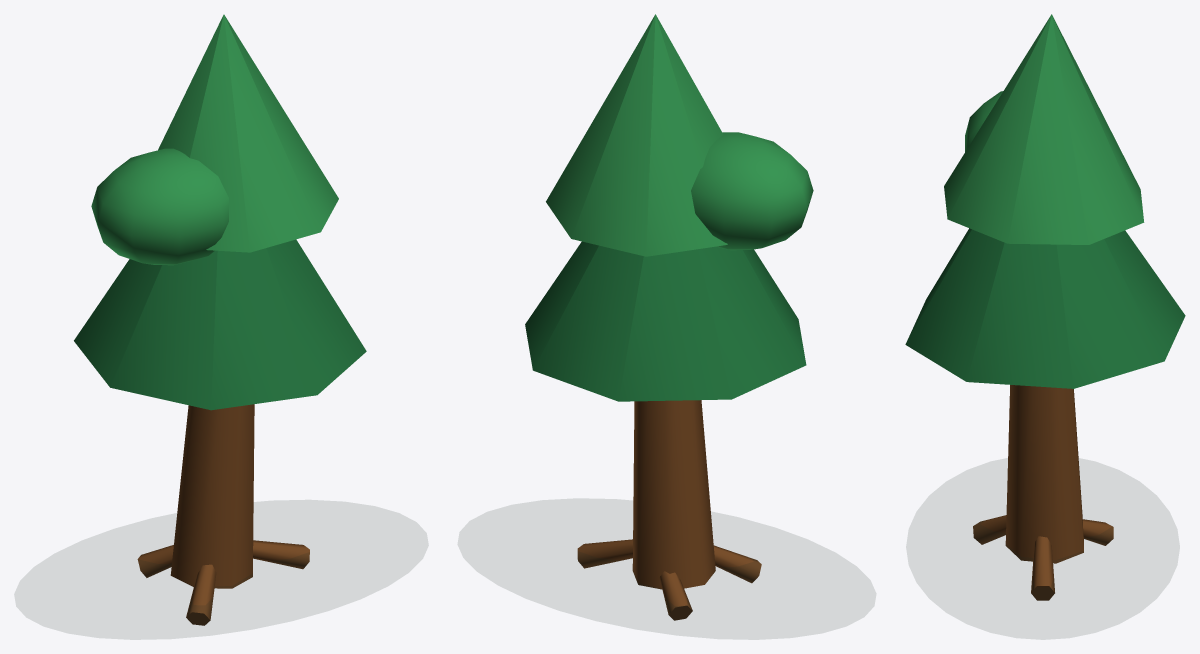
Rendered from natural_tree.glb.
The picture shows the model from 3 angles, left to right: view 1: azimuth 30°, elevation 25°; view 2: azimuth 150°, elevation 25°; view 3: azimuth 270°, elevation 25°; orthographic projection. The views are drawn at different scales.
Parts seen in each view (by area): view 1: lower_canopy, soft_ground_shadow, upper_canopy, knotted_trunk, side_leaf_cluster, trunk_root_1, trunk_root_0, trunk_root_2; view 2: lower_canopy, soft_ground_shadow, upper_canopy, knotted_trunk, side_leaf_cluster, trunk_root_0, trunk_root_1, trunk_root_2; view 3: lower_canopy, upper_canopy, soft_ground_shadow, knotted_trunk, trunk_root_0, trunk_root_1, side_leaf_cluster, trunk_root_2.
Boxes of the visible parts, left/top/right/bottom form: lower_canopy: left=74, top=239, right=366, bottom=410; soft_ground_shadow: left=15, top=500, right=427, bottom=639; upper_canopy: left=158, top=14, right=338, bottom=252; knotted_trunk: left=170, top=404, right=254, bottom=588; side_leaf_cluster: left=91, top=148, right=228, bottom=265; trunk_root_1: left=186, top=564, right=216, bottom=625; trunk_root_0: left=253, top=540, right=309, bottom=569; trunk_root_2: left=137, top=545, right=173, bottom=577; lower_canopy: left=525, top=241, right=806, bottom=401; soft_ground_shadow: left=458, top=499, right=875, bottom=639; upper_canopy: left=546, top=14, right=727, bottom=256; knotted_trunk: left=632, top=400, right=715, bottom=589; side_leaf_cluster: left=691, top=132, right=813, bottom=250; trunk_root_0: left=577, top=539, right=632, bottom=568; trunk_root_1: left=713, top=545, right=761, bottom=583; trunk_root_2: left=659, top=571, right=692, bottom=620; lower_canopy: left=905, top=228, right=1185, bottom=388; upper_canopy: left=944, top=14, right=1144, bottom=244; soft_ground_shadow: left=906, top=459, right=1179, bottom=639; knotted_trunk: left=1005, top=385, right=1083, bottom=563; trunk_root_0: left=1031, top=536, right=1054, bottom=600; trunk_root_1: left=973, top=515, right=1006, bottom=544; side_leaf_cluster: left=965, top=91, right=1003, bottom=151; trunk_root_2: left=1083, top=519, right=1113, bottom=545.
Bounding box in the file's own units: 3.63 × 5.07 × 2.31.
